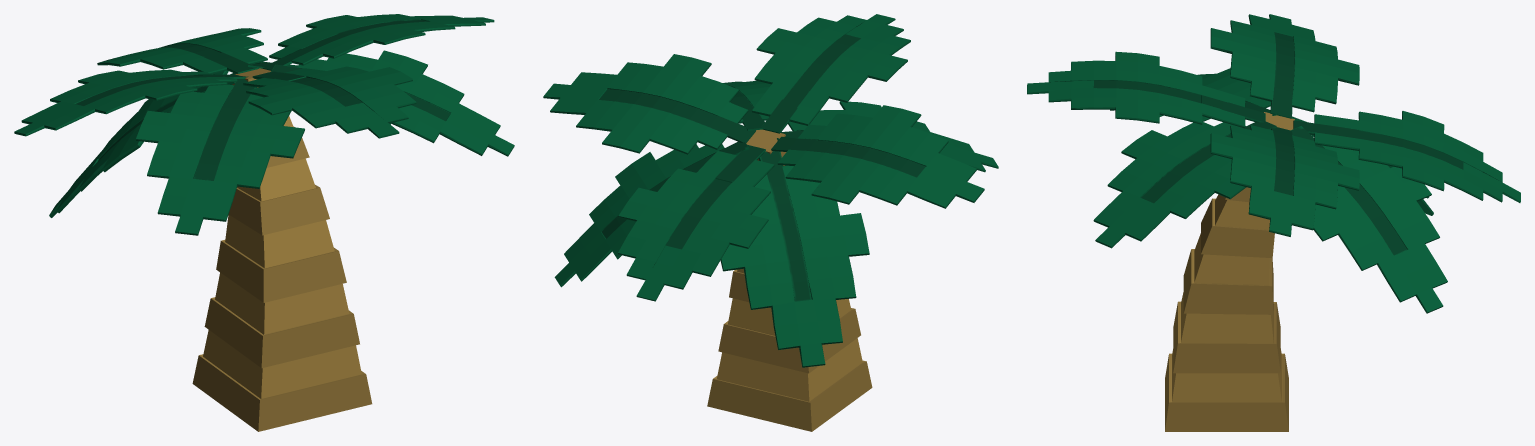
Rendered from palm tree.fbx.
3 views of the same model, side by side, from view 1: azimuth 30°, elevation 25°; view 2: azimuth 150°, elevation 25°; view 3: azimuth 270°, elevation 25° (orthographic). The views are drawn at different scales.
Parts seen in each view (by area): view 1: palm tree, palm leaf.003, palm leaf, palm leaf.002, palm leaf.005, palm leaf.001, palm leaf.006; view 2: palm leaf, palm leaf.006, palm tree, palm leaf.001, palm leaf.002, palm leaf.004, palm leaf.003, palm leaf.005; view 3: palm tree, palm leaf, palm leaf.004, palm leaf.005, palm leaf.002, palm leaf.001, palm leaf.003.
Part boxes in pixels (x1,y1,x2,y2): palm tree: (192,68,372,431); palm leaf.003: (136,75,304,235); palm leaf: (14,14,494,136); palm leaf.002: (243,66,416,138); palm leaf.005: (271,50,514,156); palm leaf.001: (97,28,267,73); palm leaf.006: (49,70,236,217); palm leaf: (543,54,984,208); palm leaf.006: (720,151,869,367); palm tree: (707,129,872,431); palm leaf.001: (618,144,774,301); palm leaf.002: (752,14,910,133); palm leaf.004: (554,141,749,287); palm leaf.003: (777,101,998,172); palm leaf.005: (723,80,771,130); palm tree: (1165,112,1294,431); palm leaf: (1210,14,1359,236); palm leaf.004: (1290,126,1447,313); palm leaf.005: (1093,121,1276,248); palm leaf.002: (1027,51,1265,128); palm leaf.001: (1293,111,1520,202); palm leaf.003: (1110,68,1278,121).
Bounding box in the file's own units: 411 × 286 × 397.
Materials: 2 (2 with a texture image).
